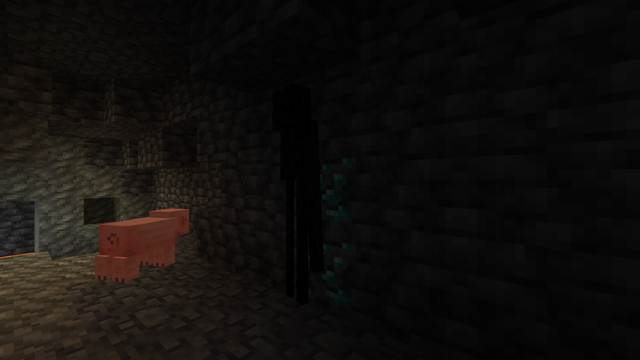cochons: (104, 214, 177, 282)
endermens: (266, 73, 313, 313)
